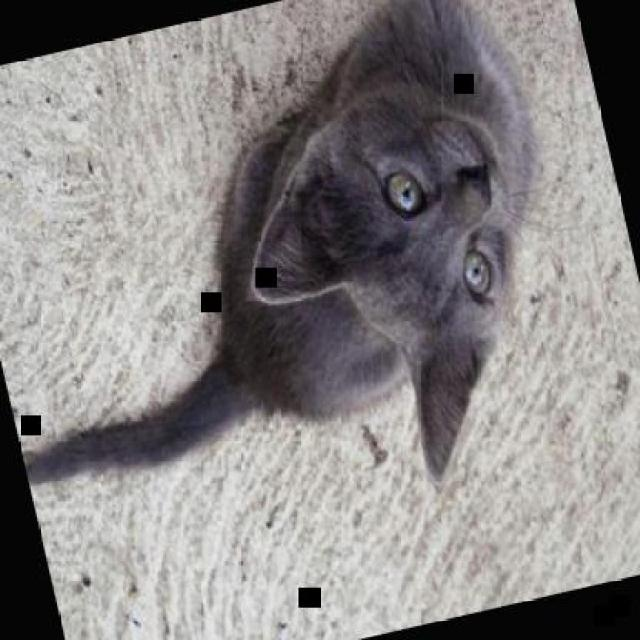cat: (0, 0, 614, 580)
